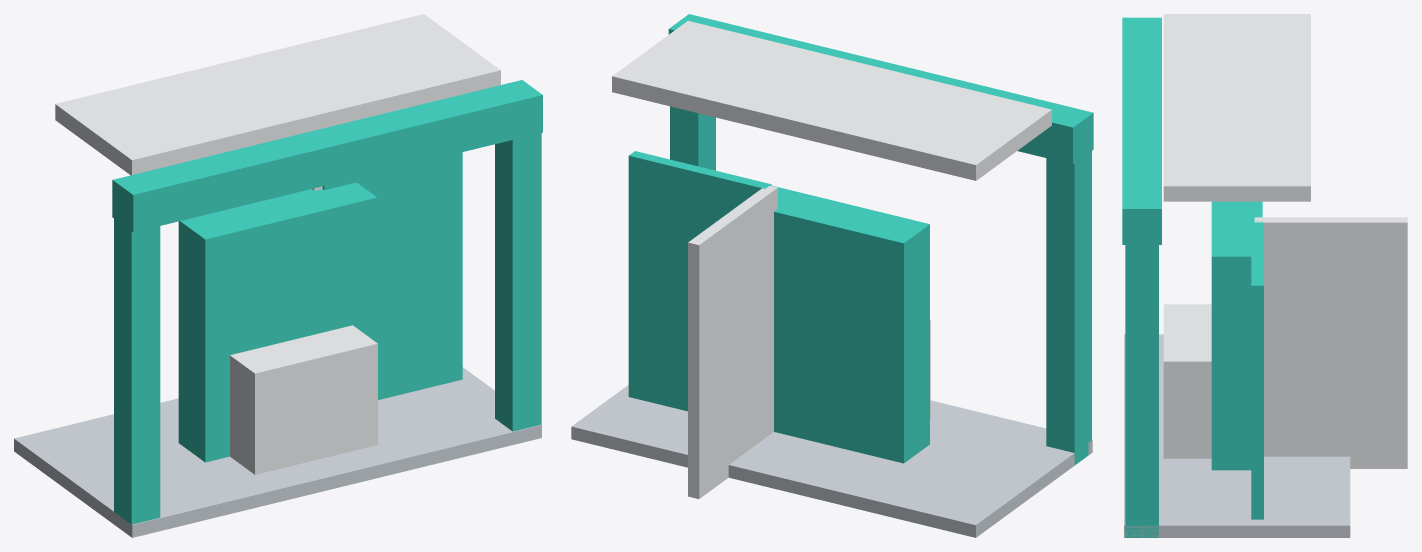
3 views of the same model, side by side, from view 1: azimuth 30°, elevation 25°; view 2: azimuth 150°, elevation 25°; view 3: azimuth 270°, elevation 25° (orthographic). The views are drawn at different scales.
Parts seen in each view (by area): view 1: Exhibition Booth Concept; view 2: Exhibition Booth Concept; view 3: Exhibition Booth Concept.
Part boxes in pixels (left/top/right/bottom): Exhibition Booth Concept: left=14, top=14, right=542, bottom=537; Exhibition Booth Concept: left=571, top=14, right=1093, bottom=537; Exhibition Booth Concept: left=1122, top=14, right=1407, bottom=537.
Size of the model in its own units: 4 by 3.34 by 2.52.
